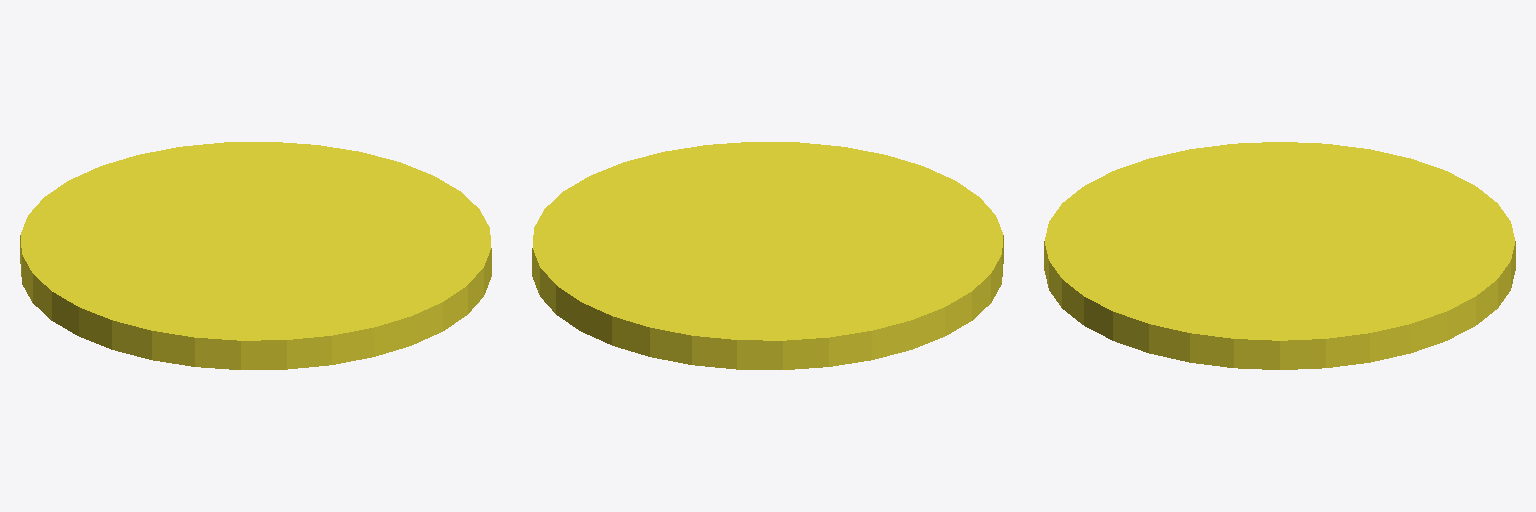
URDF robot description (plate):
<?xml version="1.0" encoding="utf-8"?>

<robot name="plate">
  <link name="base_link"/>
  <link name="plate_x"/>
  <link name="plate_y"/>
  <link name="plate">
    <inertial>
      <origin rpy="0 0 0" xyz="0 0 0"/>
      <mass value="0.37"/>
      <inertia ixx="0.00048818" ixy="0" ixz="0" iyy="0.00048818" iyz="0" izz="0.00097241"/>
    </inertial>
    <visual>
      <origin rpy="0 0 0" xyz="0 0 0.0"/>
      <geometry>
        <cylinder radius="0.0725" length="0.01"/>
      </geometry>
    </visual>
    <collision name="middle_right">
      <geometry>
        <sphere radius="0.001"/>
      </geometry>
      <origin rpy="0 0 0" xyz="0.0725 0.0 0.004"/>
    </collision>
    <collision name="top_left">
      <geometry>
        <sphere radius="0.001"/>
      </geometry>
      <origin rpy="0 0 0" xyz="-0.03625 0.06278  0.004"/>
    </collision>
    <collision name="bottom_left">
      <geometry>
        <sphere radius="0.001"/>
      </geometry>
      <origin rpy="0 0 0" xyz="-0.03625 -0.06278  0.004"/>
    </collision>
  </link>
  <joint name="plate_x" type="prismatic">
    <parent link="base_link"/>
    <child link="plate_x"/>
    <axis xyz="1 0 0"/>
  </joint>
  <joint name="plate_y" type="prismatic">
    <parent link="plate_x"/>
    <child link="plate_y"/>
    <axis xyz="0 1 0"/>
  </joint>
  <joint name="plate_z" type="prismatic">
    <parent link="plate_y"/>
    <child link="plate"/>
    <axis xyz="0 0 1"/>
  </joint>
  <transmission name="plate_x" type="SimpleTransmission">
    <actuator name="plate_virtual_actuator_x"/>
    <joint name="plate_x"/>
    <mechanicalReduction>1</mechanicalReduction>
  </transmission>
  <transmission name="plate_y" type="SimpleTransmission">
    <actuator name="plate_virtual_actuator_y"/>
    <joint name="plate_y"/>
    <mechanicalReduction>1</mechanicalReduction>
  </transmission>
  <transmission name="plate_z" type="SimpleTransmission">
    <actuator name="plate_virtual_actuator_z"/>
    <joint name="plate_z"/>
    <mechanicalReduction>1</mechanicalReduction>
  </transmission>
</robot>

--- Render facts (derived) ---
The picture shows the robot from 3 angles, left to right: view 1: azimuth 30°, elevation 25°; view 2: azimuth 150°, elevation 25°; view 3: azimuth 270°, elevation 25°; orthographic projection.
Robot: plate — 4 links, 3 joints (3 prismatic); root link base_link; default pose: all joints at 0.
Visible links, largest first — view 1: plate; view 2: plate; view 3: plate.
Link boxes in pixels (box(x1,y1,x2,y2)): plate: box(20, 142, 491, 369); plate: box(532, 142, 1003, 369); plate: box(1044, 142, 1515, 369).
Size in the robot's own frame: 0.145 by 0.145 by 0.01 metres.
Geometry: primitives only (box / cylinder / sphere), no mesh files.